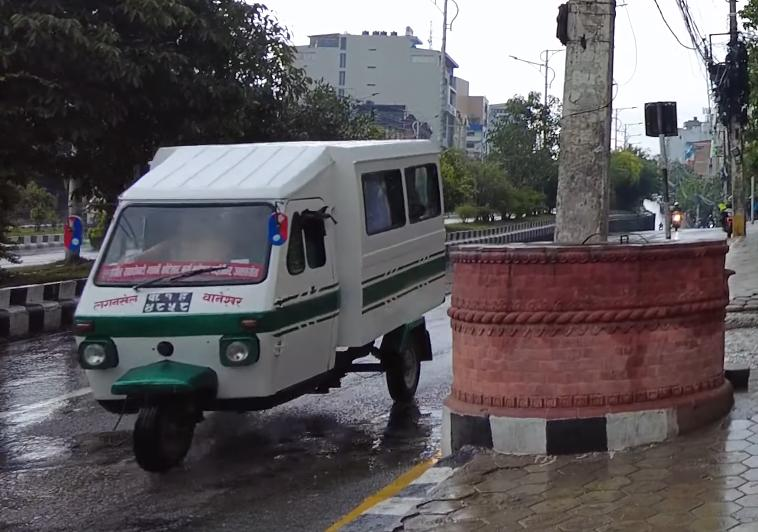tempo: (60, 129, 458, 479)
